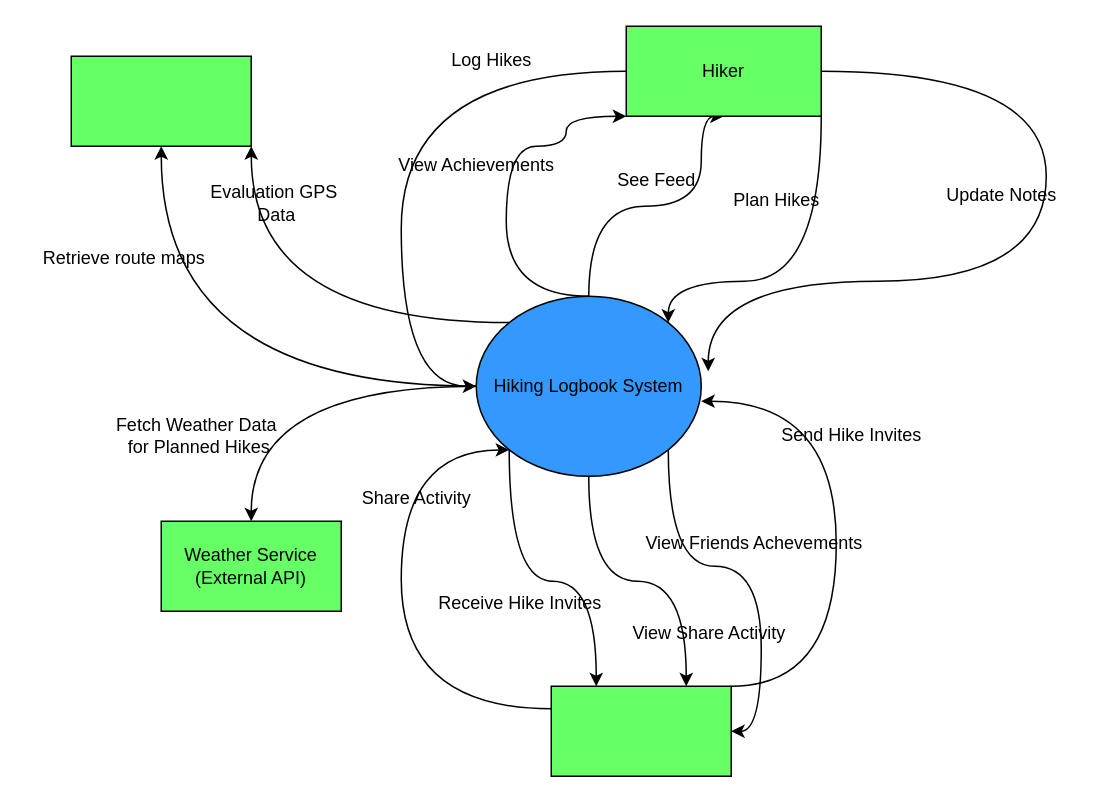
Image size: 1101x803. Some labels were removed from this diagram. Each missing label, with the box of its shape:
Friends: (550, 685, 731, 776)
Map Service (External API): (70, 55, 251, 146)
